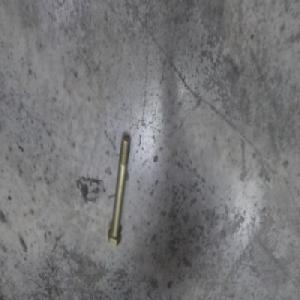Bolt: (108, 134, 133, 252)
